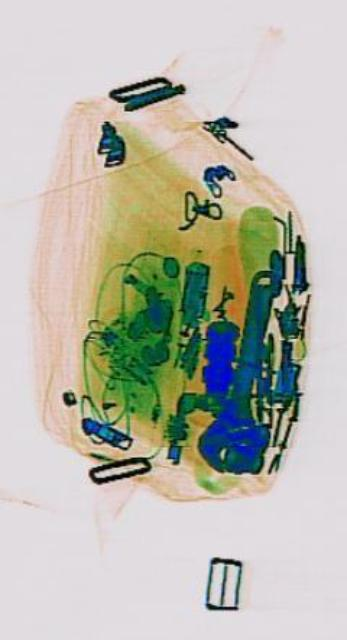Wrench: (192, 247, 293, 488)
